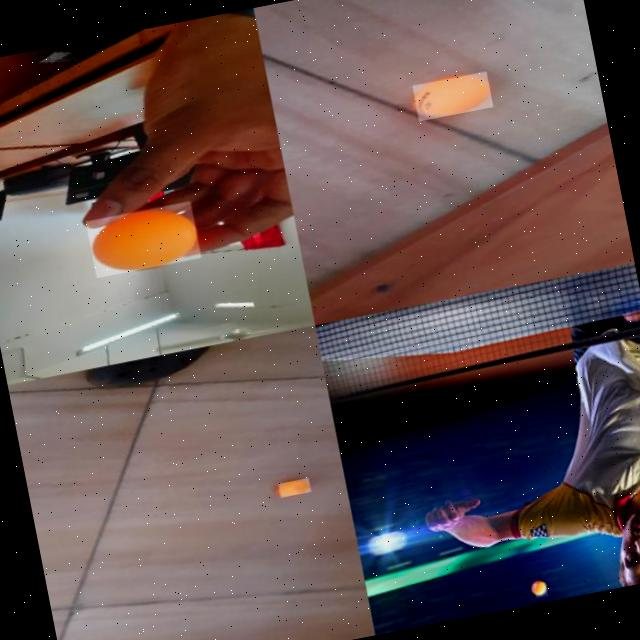ping-pong-ball: (83, 200, 200, 278), (410, 71, 492, 121), (276, 477, 310, 497), (532, 580, 548, 598)
